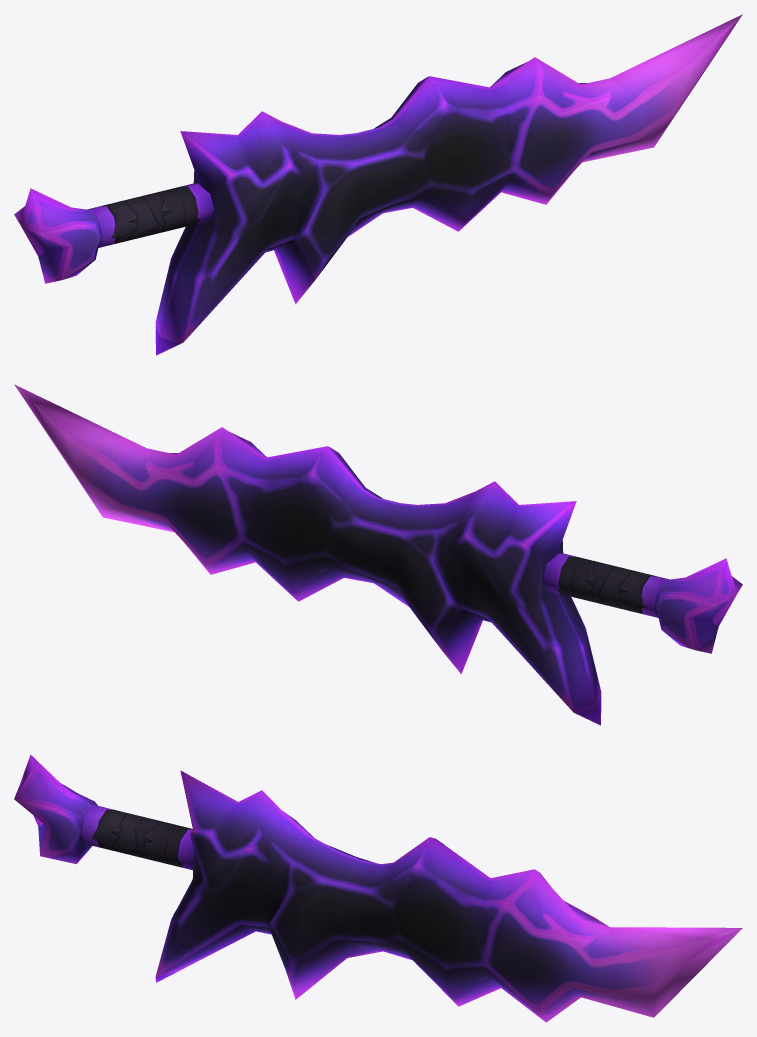
The model's file is item_weaswomgm2501-et01.glb.
3 views of the same model, one above another, from view 1: azimuth 30°, elevation 25°; view 2: azimuth 150°, elevation 25°; view 3: azimuth 330°, elevation 25° (orthographic).
Visible parts, largest first — view 1: FlyffMesh; view 2: FlyffMesh; view 3: FlyffMesh.
Part boxes in pixels (box(x1,y1,x2,y2)): FlyffMesh: box(14, 14, 742, 355); FlyffMesh: box(14, 384, 742, 725); FlyffMesh: box(14, 754, 742, 1022).
Bounding box in the file's own units: 1.2 × 0.347 × 0.1155.
1 material, 1 textured.
